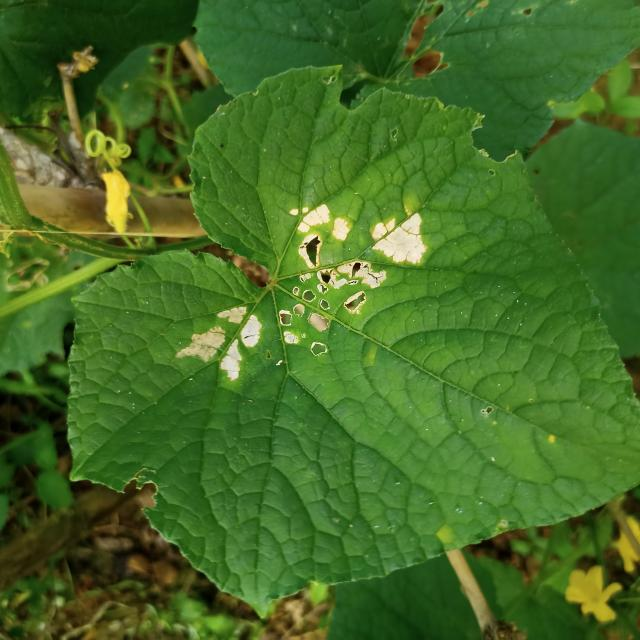disease_cucumber: (275, 194, 432, 367), (178, 301, 263, 385)
